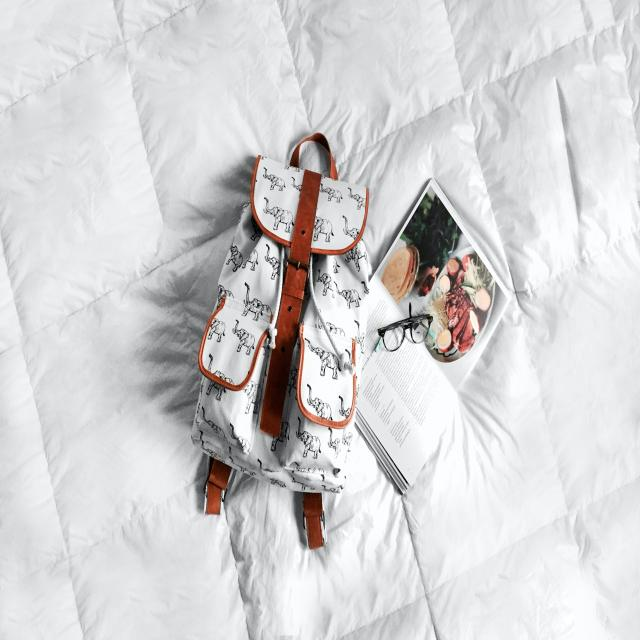backpack: (188, 132, 373, 556)
